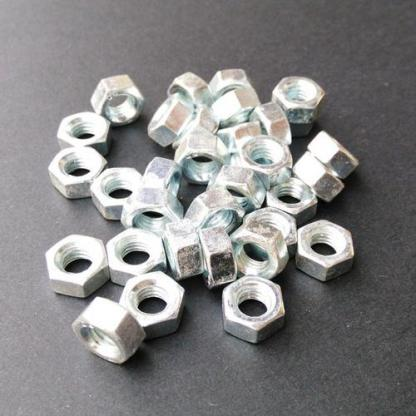FOD: (70, 296, 150, 364), (221, 275, 288, 347), (117, 270, 188, 335), (45, 233, 110, 298), (102, 226, 168, 286), (293, 220, 355, 283), (47, 144, 112, 202), (231, 222, 286, 286), (268, 72, 331, 126), (118, 188, 181, 238), (90, 72, 147, 127), (54, 108, 113, 161), (91, 164, 146, 220), (169, 130, 229, 180), (162, 218, 205, 286), (308, 127, 362, 180), (198, 222, 238, 292), (148, 90, 194, 148), (267, 172, 319, 223), (186, 188, 244, 233), (208, 86, 260, 130), (209, 165, 269, 203), (299, 151, 342, 203), (205, 60, 256, 103), (236, 136, 293, 174), (166, 69, 208, 113)
